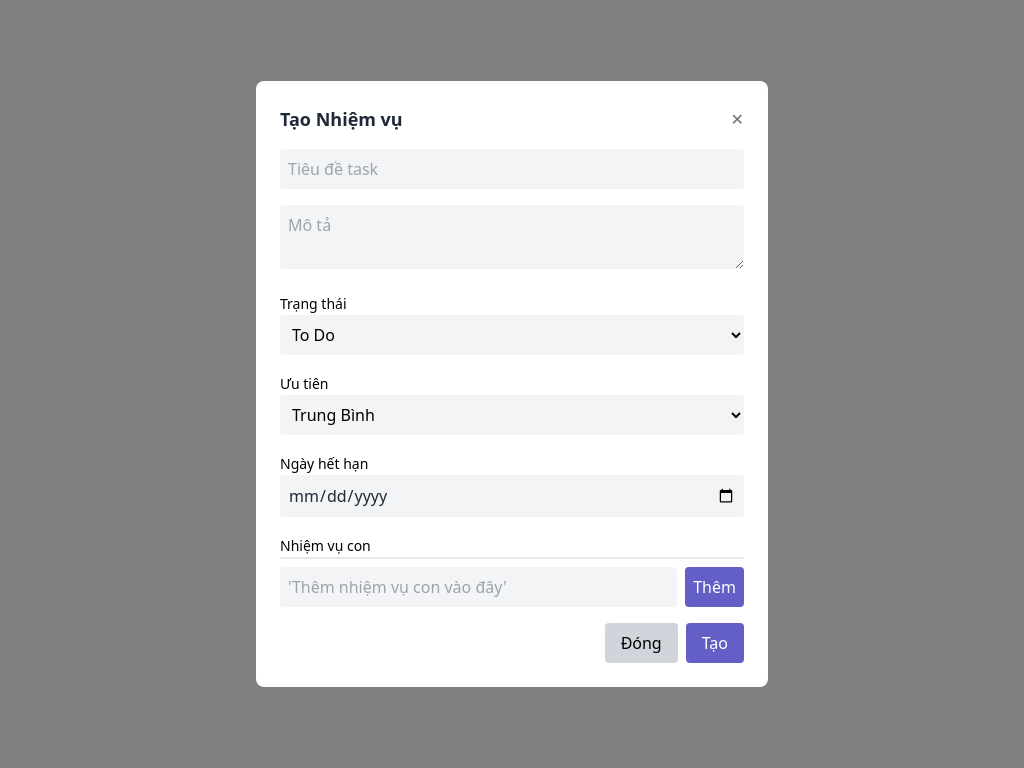
Test case: AddTaskModal › báo lỗi nếu thiếu ngày hết hạn
Type "Test" into the field with placeholder "Tiêu đề task" at [512, 169], box [280,149,744,189]
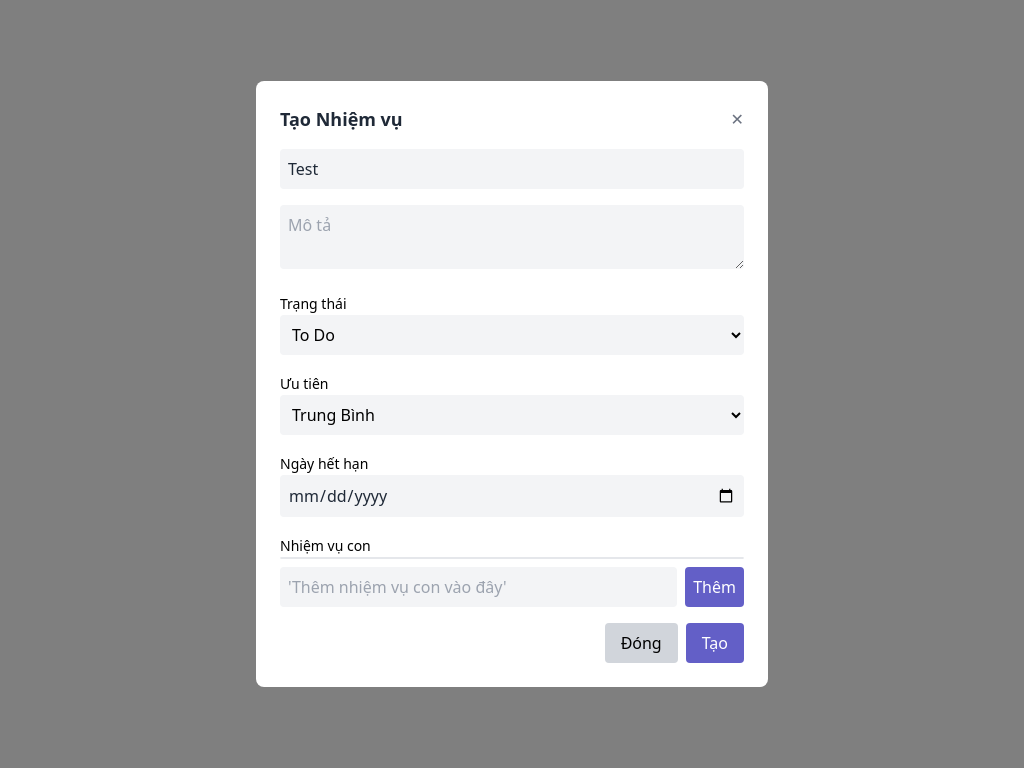
Click the button "Tạo" at [715, 643], box [686,623,744,663]
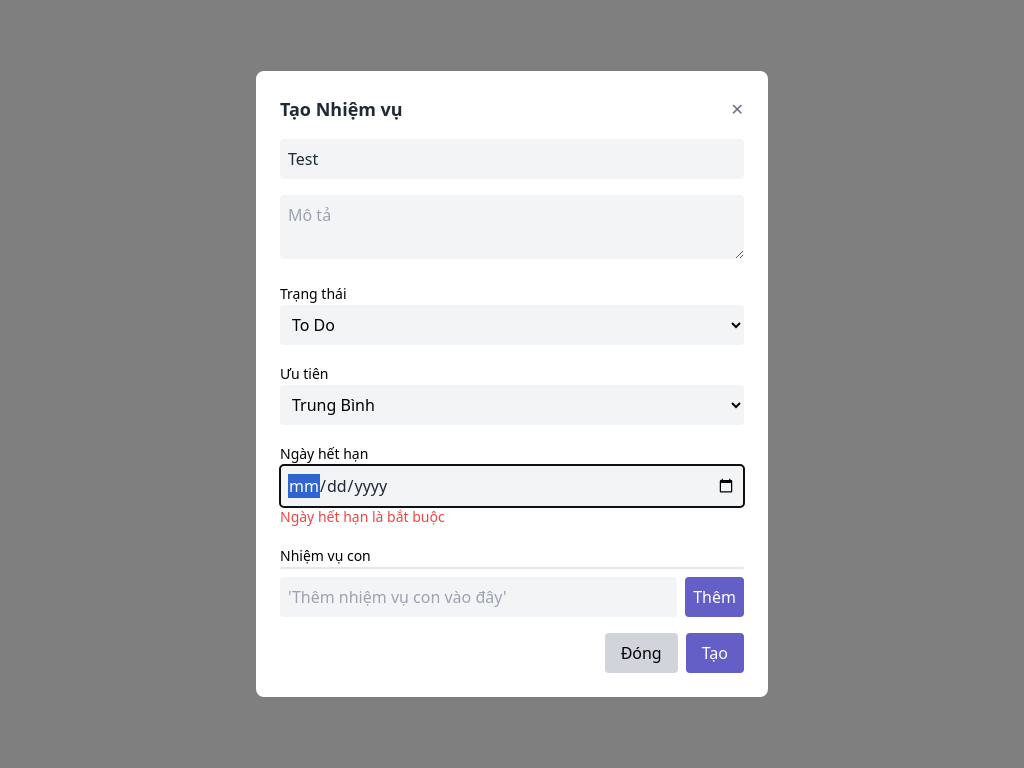
Expected: the text "Ngày hết hạn là bắt buộc" is shown, [280,507,445,526]
